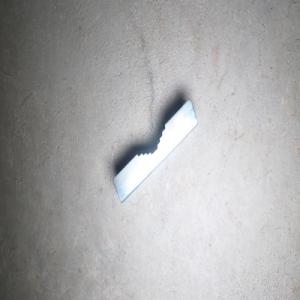ClampPart: (113, 97, 198, 204)
